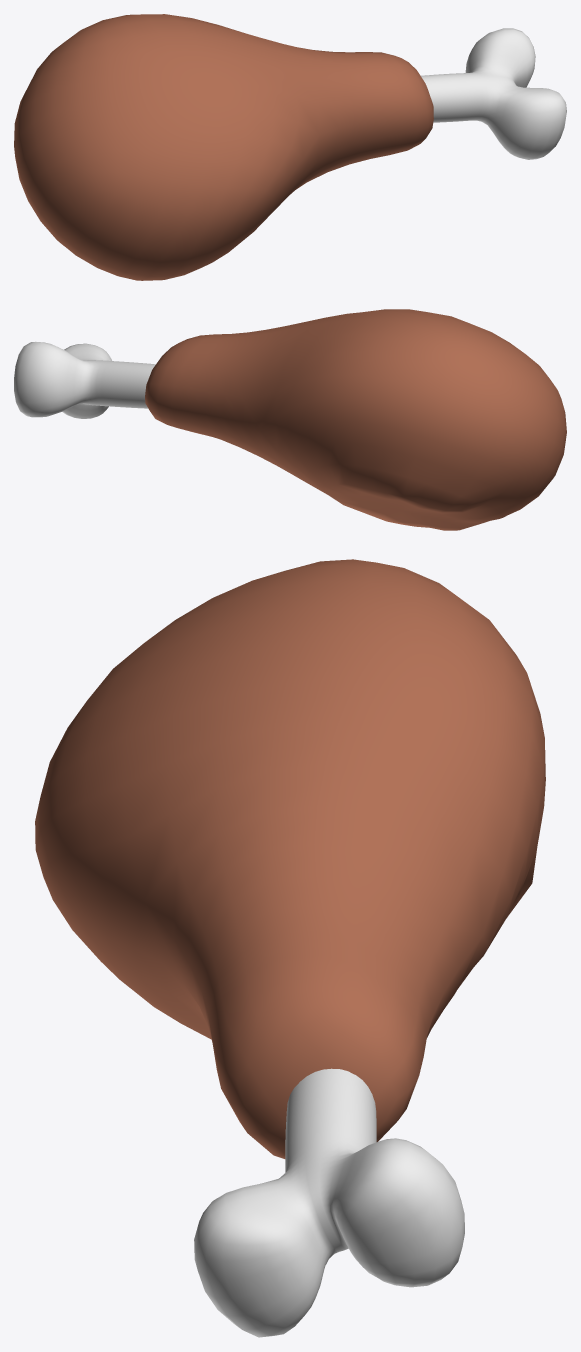
File: ChickenCooked.glb
The picture shows the model from 3 angles, top to bottom: view 1: azimuth 30°, elevation 25°; view 2: azimuth 150°, elevation 25°; view 3: azimuth 270°, elevation 25°; orthographic projection. The views are drawn at different scales.
Visible parts, largest first — view 1: Chicken.001; view 2: Chicken.001; view 3: Chicken.001.
Boxes of the visible parts, bbox=[...] form: Chicken.001: bbox=[14, 14, 566, 280]; Chicken.001: bbox=[14, 309, 566, 530]; Chicken.001: bbox=[35, 559, 545, 1337].
Size of the model in its own units: 0.2146 by 0.0897 by 0.0941.
